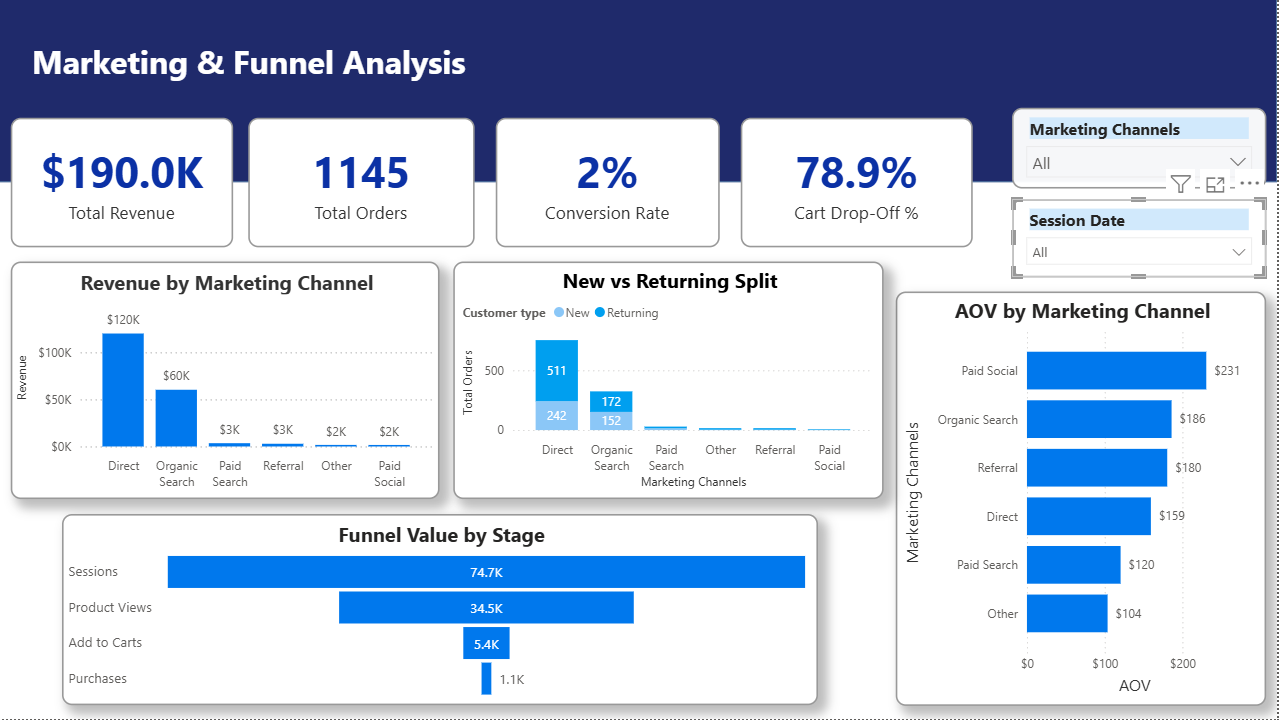

Layout of this report page (visuals, bound fields, positions):
{"tool":"powerbi","page":{"name":"Marketing & Funnel","canvas":[1280,720],"ordinal":1},"visuals":[{"type":"shape","box":[0,0,1280.3,183.4],"z":0},{"type":"card","fields":{"Values":["orders_clean.Total Revenue"]},"box":[13.5,118.6,222.6,129.6],"z":1000},{"type":"card","fields":{"Values":["orders_clean.Total Orders"]},"box":[250.7,118.6,226.2,129.6],"z":2000},{"type":"card","fields":{"Values":["funnel_events.Conversion Rate"]},"box":[498.9,118.6,223.8,129.6],"z":3000},{"type":"card","fields":{"Values":["funnel_events.Cart Drop-Off %"]},"box":[743.5,118.6,232.3,129.6],"z":4000},{"type":"clusteredColumnChart","title":"Revenue by Marketing Channel","fields":{"Category":["orders_clean.marketing_channel"],"Y":["orders_clean.Total Revenue"]},"box":[13.9,262,429.1,238],"z":5000},{"type":"textbox","box":[30.4,36.7,512.7,72.2],"z":6000},{"type":"slicer","fields":{"Values":["orders_clean.marketing_channel"]},"box":[1015,108.8,254.3,80.7],"z":8000},{"type":"slicer","fields":{"Values":["sessions_clean.session_date"]},"box":[1015,200.5,254.3,78.3],"z":9000},{"type":"clusteredBarChart","title":"AOV by Marketing Channel","fields":{"Category":["orders_clean.marketing_channel"],"Y":["orders_clean.AOV"]},"box":[898.8,292.3,370.5,414.5],"z":10000},{"type":"columnChart","title":"New vs Returning Split","fields":{"Category":["orders_clean.marketing_channel"],"Series":["orders_clean.customer_type"],"Y":["orders_clean.Total Orders"]},"box":[455.7,262,430.4,238],"z":11000},{"type":"funnel","title":"Funnel Value by Stage","fields":{"Category":["Funnel Stages.Stage"],"Y":["Funnel Stages.Funnel Value"]},"box":[64.6,515.2,755.7,191.1],"z":12000}]}

Visuals, with their boxes in screenshot pixels (x1, y1, x2, y2), scaled from the page's 1280x720 canvas onto the 1279x720 screenshot:
shape: detection(0, 0, 1278, 183)
card - orders_clean.Total Revenue: detection(13, 119, 236, 248)
card - orders_clean.Total Orders: detection(251, 119, 477, 248)
card - funnel_events.Conversion Rate: detection(499, 119, 722, 248)
card - funnel_events.Cart Drop-Off %: detection(743, 119, 975, 248)
"Revenue by Marketing Channel" clusteredColumnChart: detection(14, 262, 443, 500)
textbox: detection(30, 37, 543, 109)
slicer - orders_clean.marketing_channel: detection(1014, 109, 1268, 190)
slicer - sessions_clean.session_date: detection(1014, 200, 1268, 279)
"AOV by Marketing Channel" clusteredBarChart: detection(898, 292, 1268, 707)
"New vs Returning Split" columnChart: detection(455, 262, 885, 500)
"Funnel Value by Stage" funnel: detection(65, 515, 820, 706)
